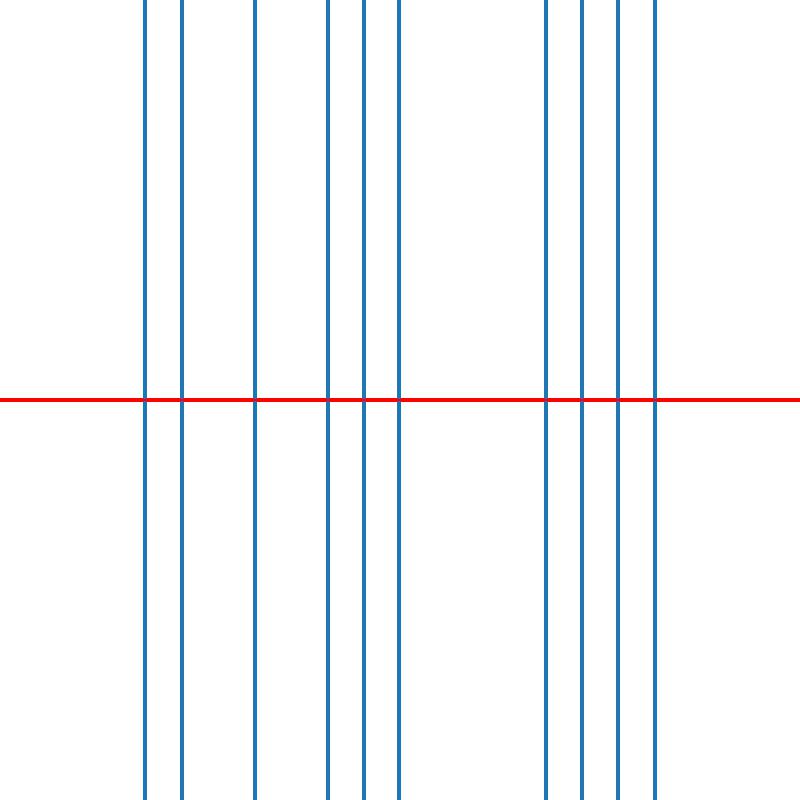root: (141, 396, 149, 404), (541, 396, 549, 404), (250, 396, 258, 404), (650, 396, 658, 404), (614, 396, 621, 404), (323, 396, 330, 404), (396, 396, 403, 404), (578, 396, 585, 404), (178, 396, 185, 404), (360, 396, 367, 404)
